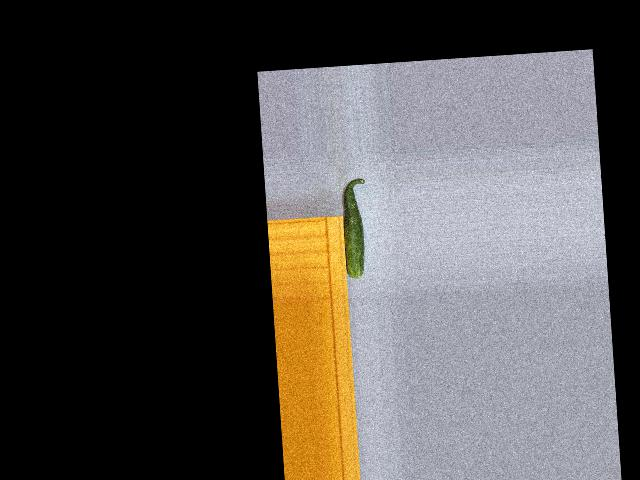cucumber: (340, 177, 371, 278)
